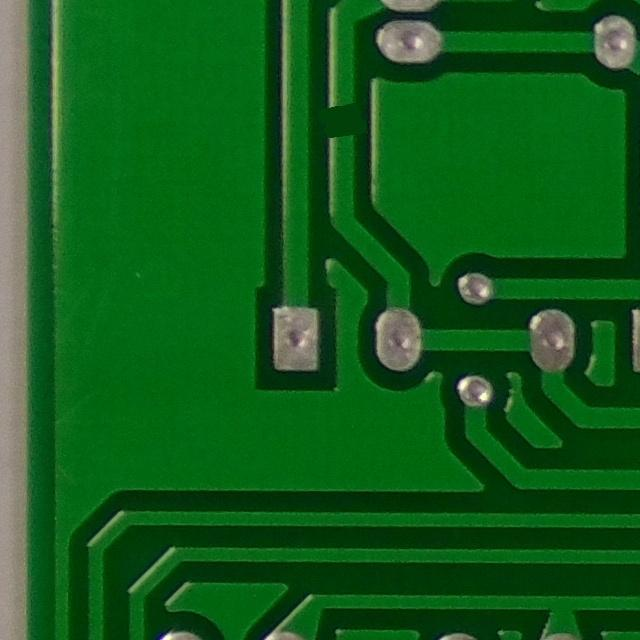open_circuit: (317, 81, 366, 155)
